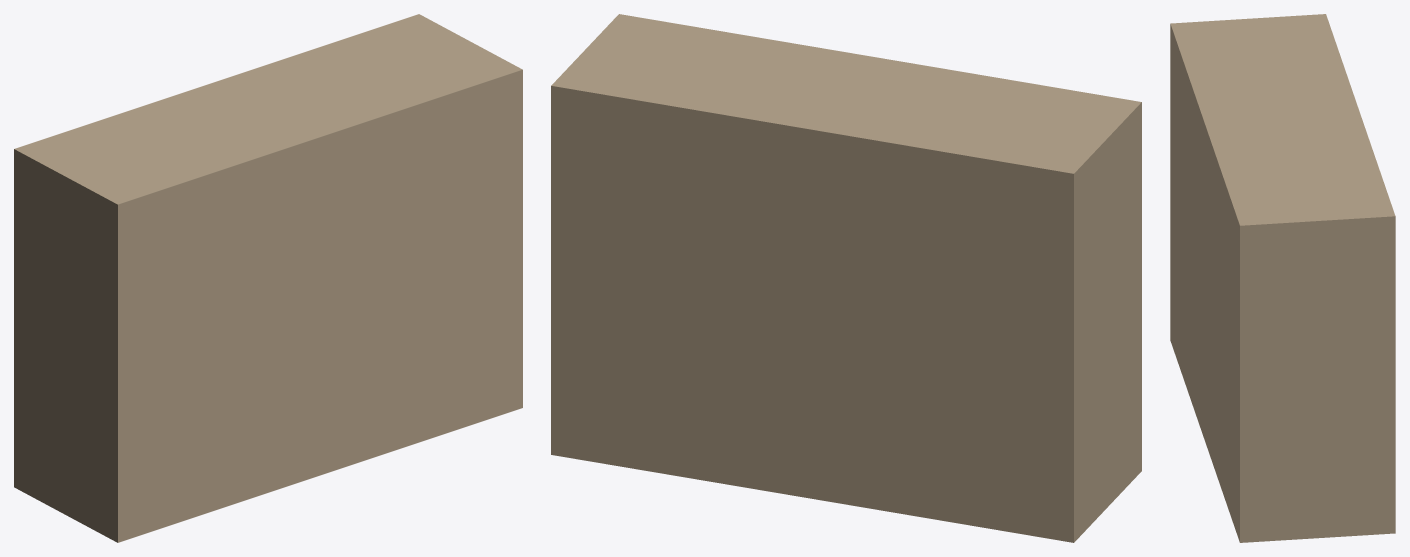
File: bld_359361992.dae
The picture shows the model from 3 angles, left to right: view 1: azimuth 30°, elevation 25°; view 2: azimuth 150°, elevation 25°; view 3: azimuth 270°, elevation 25°; orthographic projection. The views are drawn at different scales.
Visible parts, largest first — view 1: bld_359361992; view 2: bld_359361992; view 3: bld_359361992.
Part boxes in pixels (x1=…): bld_359361992: x1=14, y1=14, x2=522, y2=542; bld_359361992: x1=551, y1=14, x2=1141, y2=542; bld_359361992: x1=1170, y1=14, x2=1395, y2=542.
Bounding box in the file's own units: 11.46 × 5.15 × 8.
